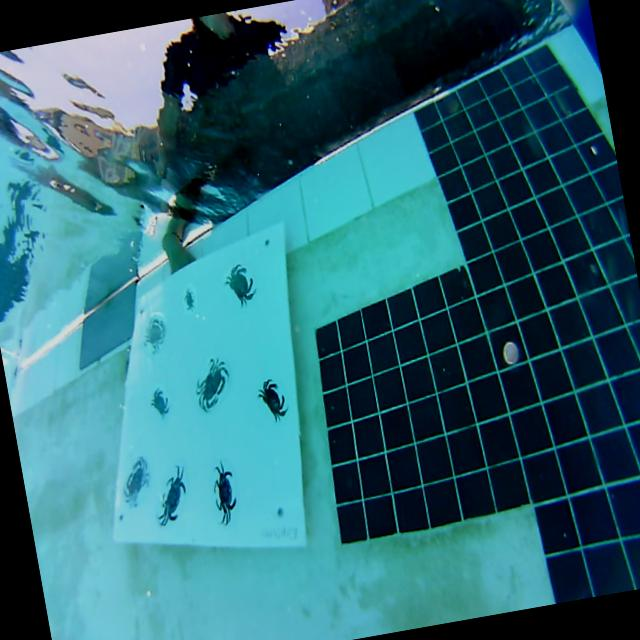green_crab: (158, 465, 185, 525), (214, 460, 236, 524), (184, 289, 194, 310)
jonah_crab: (196, 358, 228, 411), (123, 456, 149, 506), (145, 313, 165, 351)
rock_crab: (225, 264, 255, 306), (258, 379, 287, 420), (150, 388, 168, 416)
